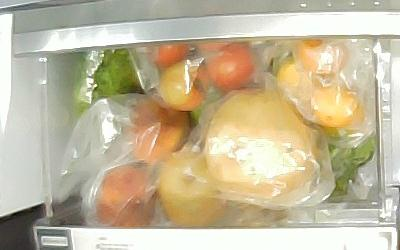peach_vinyl: (128, 96, 191, 163), (95, 166, 153, 228)
pear_vinyl: (205, 91, 317, 205), (157, 151, 222, 228)
tangerine_vinyl: (311, 84, 363, 128), (297, 39, 348, 74), (278, 61, 313, 95)
tomato_vinyl: (159, 58, 207, 110), (207, 42, 256, 88), (145, 44, 188, 65)
